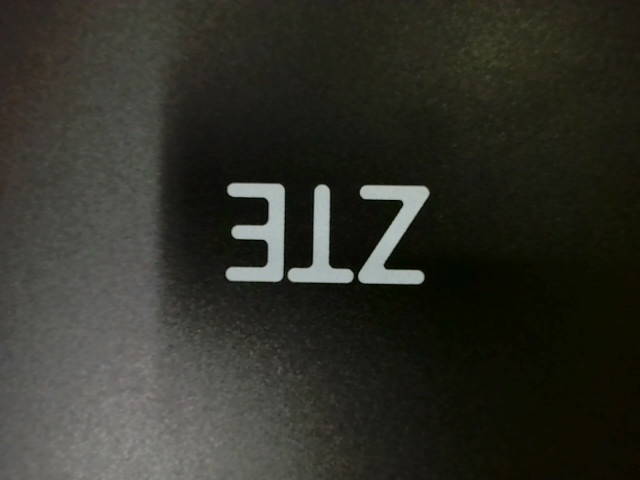AN_ZTE: (216, 176, 429, 290)
